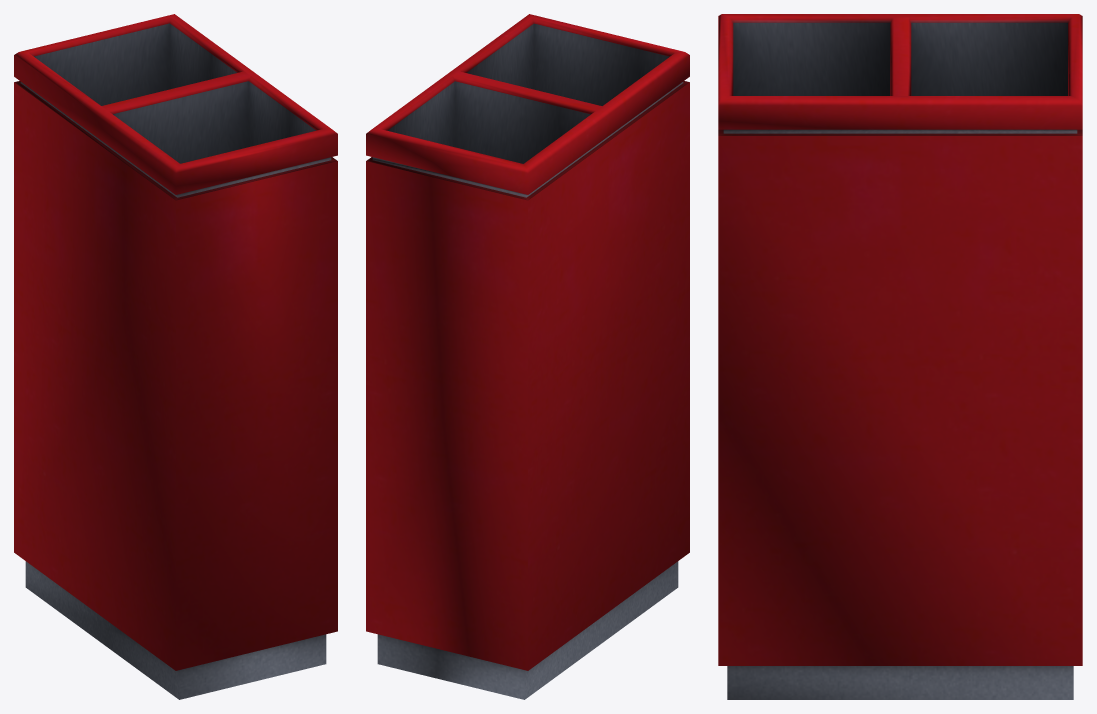
Rendered from tankstelle_muelltonne.fbx.
The picture shows the model from 3 angles, left to right: view 1: azimuth 30°, elevation 25°; view 2: azimuth 150°, elevation 25°; view 3: azimuth 270°, elevation 25°; orthographic projection. The views are drawn at different scales.
Parts seen in each view (by area): view 1: Mesh; view 2: Mesh; view 3: Mesh.
Boxes of the visible parts, x1=… form: Mesh: x1=14, y1=14, x2=337, y2=699; Mesh: x1=366, y1=14, x2=689, y2=699; Mesh: x1=718, y1=14, x2=1082, y2=699.
Bounding box in the file's own units: 27 × 85.17 × 46.67.
